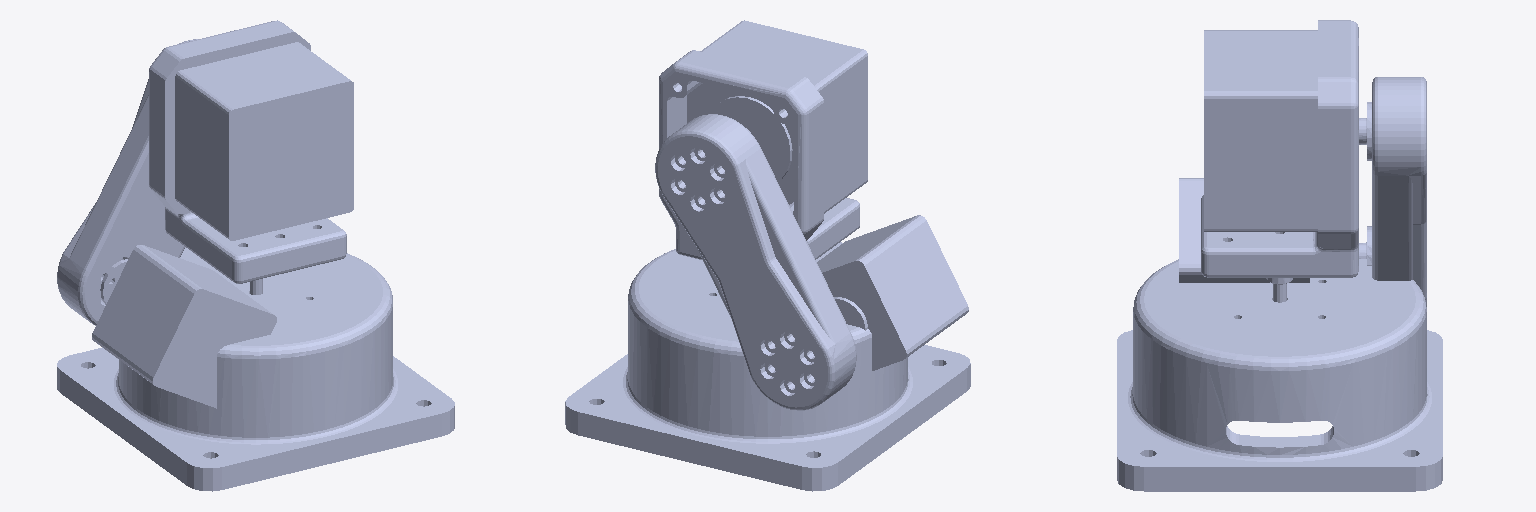
URDF robot description (Assem_done_final_v2):
<?xml version="1.0" encoding="utf-8"?>
<!-- This URDF was automatically created by SolidWorks to URDF Exporter! Originally created by [author] ([email redacted]) 
     Commit Version: 1.6.0-4-g7f85cfe  Build Version: 1.6.7995.38578
     For more information, please see http://wiki.ros.org/sw_urdf_exporter -->
<robot
  name="Assem_done_final_v2">
  <link
    name="base_link">
    <inertial>
      <origin
        xyz="-0.00062518 9.7341E-10 0.025048"
        rpy="0 0 0" />
      <mass
        value="1" />
      <inertia
        ixx="0.0003667"
        ixy="-2.025E-11"
        ixz="-8.5136E-07"
        iyy="0.00035887"
        iyz="-2.0693E-11"
        izz="0.00058409" />
    </inertial>
    <visual>
      <origin
        xyz="0 0 0"
        rpy="0 0 0" />
      <geometry>
        <mesh
          filename="package://Assem_done_final_v2/meshes/base_link.STL" />
      </geometry>
      <material
        name="">
        <color
          rgba="0.79216 0.81961 0.93333 1" />
      </material>
    </visual>
    <collision>
      <origin
        xyz="0 0 0"
        rpy="0 0 0" />
      <geometry>
        <mesh
          filename="package://Assem_done_final_v2/meshes/base_link.STL" />
      </geometry>
    </collision>
  </link>
  <link
    name="mid">
    <inertial>
      <origin
        xyz="-2.1139E-05 -0.0020926 0.11013"
        rpy="0 0 0" />
      <mass
        value="1.7" />
      <inertia
        ixx="0.00015003"
        ixy="-1.8933E-08"
        ixz="3.3207E-08"
        iyy="0.00016023"
        iyz="5.9883E-06"
        izz="0.00010422" />
    </inertial>
    <visual>
      <origin
        xyz="0 0 0"
        rpy="0 0 0" />
      <geometry>
        <mesh
          filename="package://Assem_done_final_v2/meshes/mid.STL" />
      </geometry>
      <material
        name="">
        <color
          rgba="0.79216 0.81961 0.93333 1" />
      </material>
    </visual>
    <collision>
      <origin
        xyz="0 0 0"
        rpy="0 0 0" />
      <geometry>
        <mesh
          filename="package://Assem_done_final_v2/meshes/mid.STL" />
      </geometry>
    </collision>
  </link>
  <joint
    name="joint1"
    type="revolute">
    <origin
      xyz="0 0 0"
      rpy="0 0 0" />
    <parent
      link="base_link" />
    <child
      link="mid" />
    <axis
      xyz="0 0 1" />
    <limit
      lower="0"
      upper="6.2832"
      effort="10"
      velocity="4" />
  </joint>
  <link
    name="link">
    <inertial>
      <origin
        xyz="0.04 -3.913E-07 0.027667"
        rpy="0 0 0" />
      <mass
        value="0.18" />
      <inertia
        ixx="1.2949E-05"
        ixy="-4.1233E-10"
        ixz="-4.0961E-11"
        iyy="9.3009E-05"
        iyz="8.4748E-11"
        izz="9.9834E-05" />
    </inertial>
    <visual>
      <origin
        xyz="0 0 0"
        rpy="0 0 0" />
      <geometry>
        <mesh
          filename="package://Assem_done_final_v2/meshes/link.STL" />
      </geometry>
      <material
        name="">
        <color
          rgba="0.79216 0.81961 0.93333 1" />
      </material>
    </visual>
    <collision>
      <origin
        xyz="0 0 0"
        rpy="0 0 0" />
      <geometry>
        <mesh
          filename="package://Assem_done_final_v2/meshes/link.STL" />
      </geometry>
    </collision>
  </link>
  <joint
    name="joint2"
    type="revolute">
    <origin
      xyz="-3E-05 0.0156 0.11817"
      rpy="-1.5708 0 0" />
    <parent
      link="mid" />
    <child
      link="link" />
    <axis
      xyz="0 0 1" />
    <limit
      lower="0.5236"
      upper="3.6652"
      effort="10"
      velocity="4" />
  </joint>
  <link
    name="end">
    <inertial>
      <origin
        xyz="0 -3.9708E-06 -0.025639"
        rpy="0 0 0" />
      <mass
        value="0.7" />
      <inertia
        ixx="3.1449E-05"
        ixy="2.2359E-20"
        ixz="2.7399E-20"
        iyy="3.1442E-05"
        iyz="8.759E-09"
        izz="2.7083E-05" />
    </inertial>
    <visual>
      <origin
        xyz="0 0 0"
        rpy="0 0 0" />
      <geometry>
        <mesh
          filename="package://Assem_done_final_v2/meshes/end.STL" />
      </geometry>
      <material
        name="">
        <color
          rgba="0.79216 0.81961 0.93333 1" />
      </material>
    </visual>
    <collision>
      <origin
        xyz="0 0 0"
        rpy="0 0 0" />
      <geometry>
        <mesh
          filename="package://Assem_done_final_v2/meshes/end.STL" />
      </geometry>
    </collision>
  </link>
  <joint
    name="joint3"
    type="revolute">
    <origin
      xyz="0.08 0 -0.0026"
      rpy="0 0 0" />
    <parent
      link="link" />
    <child
      link="end" />
    <axis
      xyz="0 0 1" />
    <limit
      lower="0"
      upper="6.2832"
      effort="10"
      velocity="4" />
  </joint>
</robot>

--- What the picture shows (computed from the rendered views, not written in the file) ---
The picture shows the robot from 3 angles, left to right: view 1: azimuth 30°, elevation 25°; view 2: azimuth 150°, elevation 25°; view 3: azimuth 270°, elevation 25°; orthographic projection.
Model Assem_done_final_v2 with 4 links and 3 joints (3 revolute), rooted at base_link, posed joints at zero except 1 at the middle of their limits (joint2 = 2.09).
Links seen in each view (by area): view 1: base_link, mid, end, link; view 2: base_link, link, mid, end; view 3: base_link, mid, link, end.
Link boxes in pixels (bbox=[...]): base_link: bbox=[57, 247, 454, 491]; mid: bbox=[149, 20, 353, 283]; end: bbox=[92, 245, 276, 408]; link: bbox=[57, 39, 197, 325]; base_link: bbox=[565, 242, 970, 491]; link: bbox=[655, 114, 856, 410]; mid: bbox=[659, 20, 867, 259]; end: bbox=[817, 215, 968, 370]; base_link: bbox=[1117, 259, 1442, 491]; mid: bbox=[1201, 20, 1358, 284]; link: bbox=[1359, 77, 1426, 306]; end: bbox=[1179, 178, 1309, 282].
Size in the robot's own frame: 0.1283 by 0.12 by 0.1514 metres.
Meshes: 4 distinct files referenced, 4 mesh visuals loaded (4 binary STL).